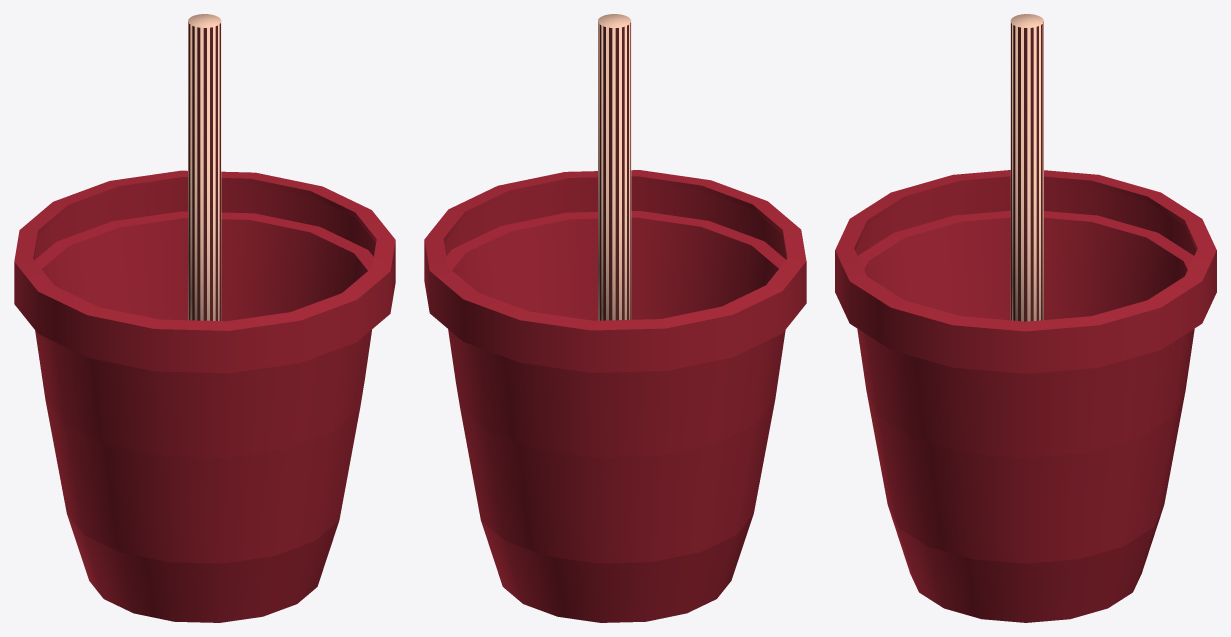
File: kubek-shake.gltf
3 views of the same model, side by side, from view 1: azimuth 30°, elevation 25°; view 2: azimuth 150°, elevation 25°; view 3: azimuth 270°, elevation 25° (orthographic).
Visible parts, largest first — view 1: Cylinder, Cylinder.002; view 2: Cylinder, Cylinder.002; view 3: Cylinder, Cylinder.002.
Boxes of the visible parts, x1,y1,x2,y2 form: Cylinder: (14, 170, 395, 622); Cylinder.002: (188, 14, 221, 320); Cylinder: (424, 170, 806, 622); Cylinder.002: (598, 14, 631, 320); Cylinder: (835, 170, 1216, 622); Cylinder.002: (1010, 14, 1043, 321).
Size of the model in its own units: 1.37 by 2.23 by 1.36.
Materials: 1 (1 with a texture image).
